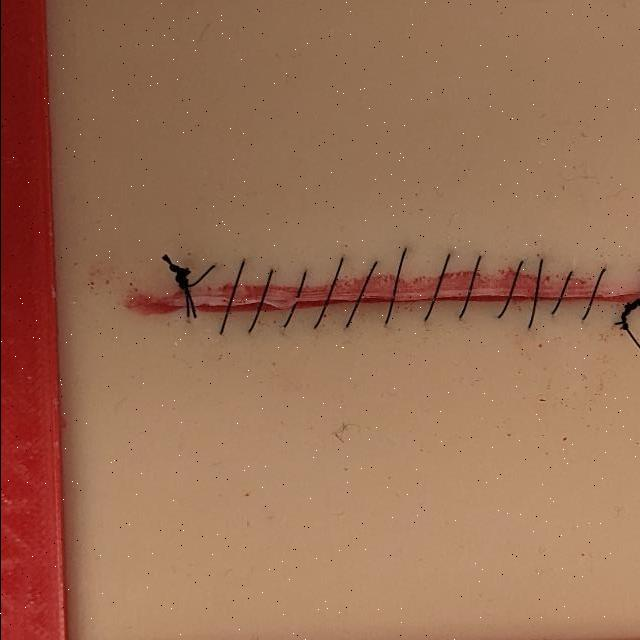suture_good: (243, 258, 280, 343), (215, 254, 250, 342), (277, 268, 311, 337), (610, 301, 636, 339)
suture_loose: (340, 250, 385, 336), (308, 249, 348, 340), (379, 235, 414, 332), (417, 246, 455, 331), (454, 249, 487, 324), (492, 255, 526, 326), (521, 252, 548, 331), (576, 261, 609, 325), (547, 263, 581, 322)
suture_tight: (159, 246, 205, 325)
